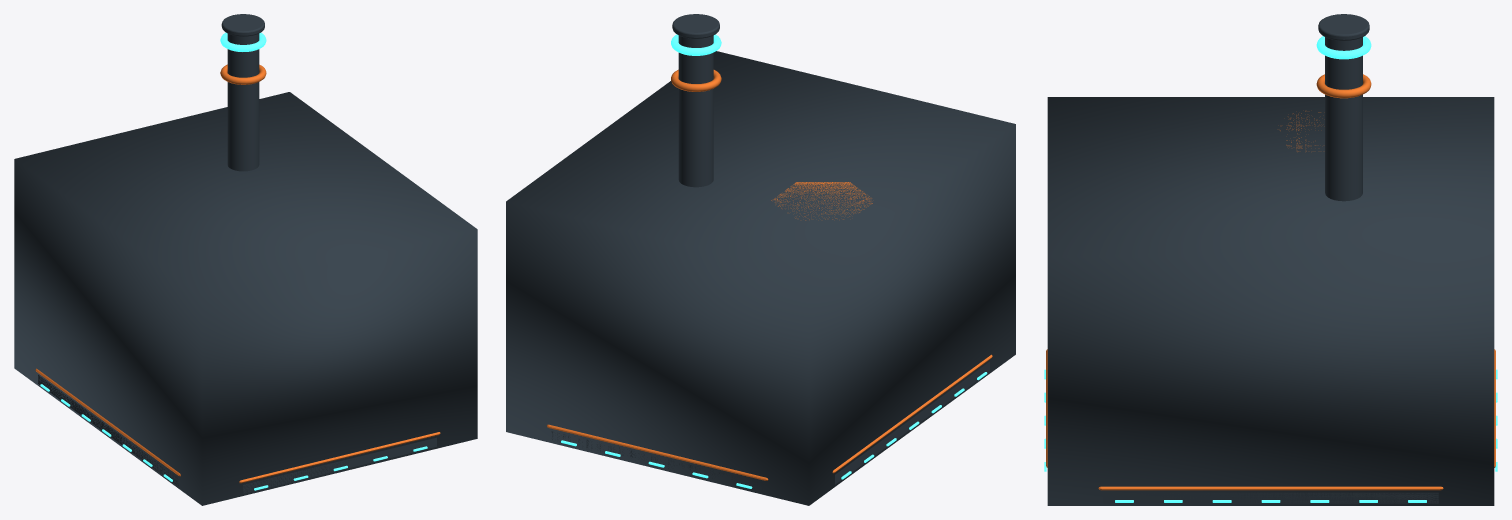
File: smelter.glb
The picture shows the model from 3 angles, left to right: view 1: azimuth 30°, elevation 25°; view 2: azimuth 150°, elevation 25°; view 3: azimuth 270°, elevation 25°; orthographic projection. The views are drawn at different scales.
Parts seen in each view (by area): view 1: COL_body, chimney, plinth, plinth lip, chimney cap; view 2: COL_body, chimney, plinth, plinth lip, hopper, chimney cap; view 3: COL_body, chimney, plinth, plinth lip, chimney cap, chimney ring, chimney ring 2.
Boxes of the visible parts, x1,y1,x2,y2 form: COL_body: (14, 92, 477, 505); chimney: (227, 34, 259, 171); plinth: (38, 375, 436, 493); plinth lip: (35, 368, 440, 483); chimney cap: (221, 14, 264, 36); COL_body: (506, 51, 1015, 505); chimney: (678, 35, 713, 187); plinth: (551, 361, 989, 486); plinth lip: (547, 354, 992, 480); hopper: (771, 182, 872, 220); chimney cap: (672, 14, 719, 38); COL_body: (1047, 97, 1494, 505); chimney: (1325, 37, 1362, 201); plinth: (1103, 492, 1438, 503); plinth lip: (1046, 349, 1495, 490); chimney cap: (1318, 14, 1369, 40); chimney ring: (1316, 74, 1371, 98); chimney ring 2: (1316, 36, 1371, 59).
Bounding box in the file's own units: 4.48 × 5.37 × 5.28.
